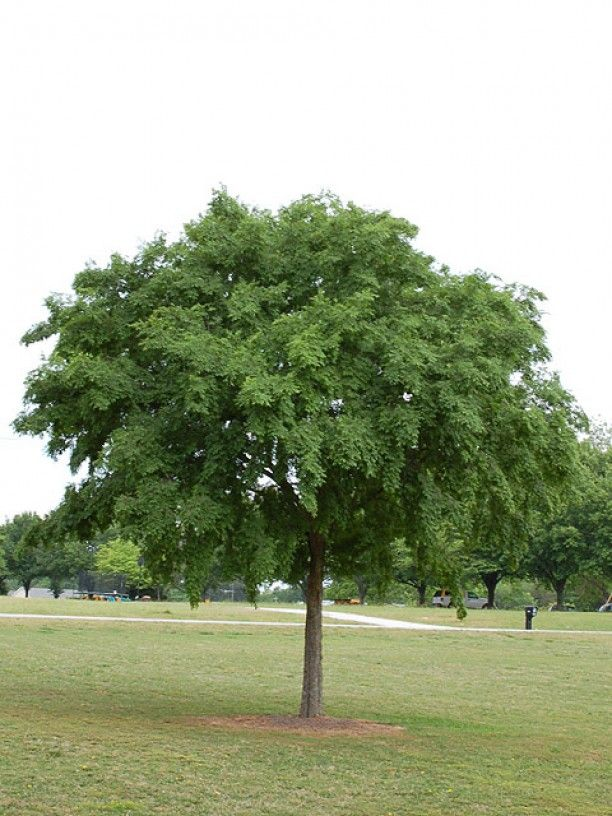tree: (8, 181, 591, 719)
